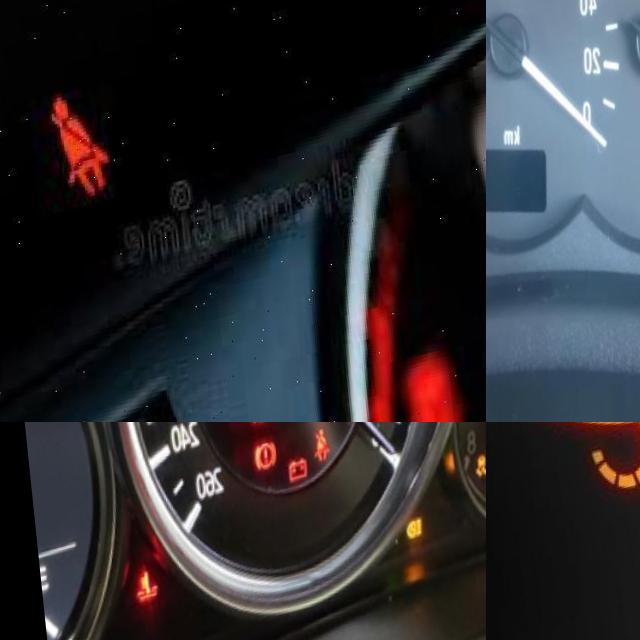High Engine Coolant Temperature: (122, 566, 152, 618)
Seat Belt: (40, 98, 107, 213), (303, 439, 325, 483)
Washer Fluid: (490, 422, 640, 525)
